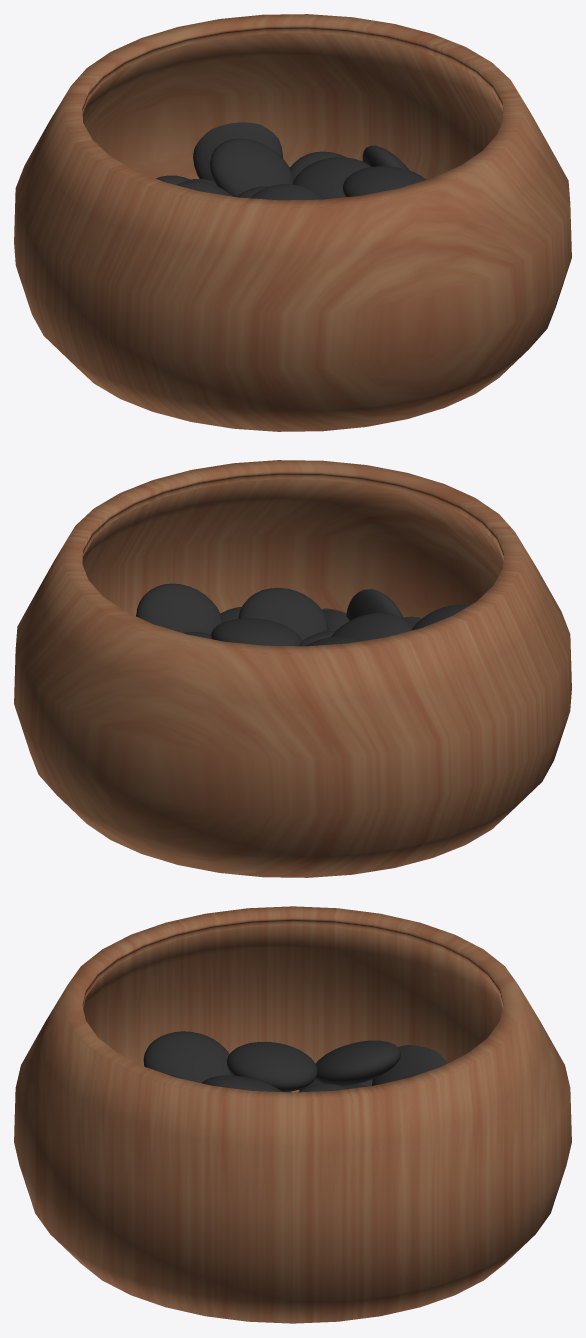
The model's file is BlackStones.fbx.
3 views of the same model, one above another, from view 1: azimuth 30°, elevation 25°; view 2: azimuth 150°, elevation 25°; view 3: azimuth 270°, elevation 25° (orthographic).
Visible parts, largest first — view 1: Container.001, White.001; view 2: Container.001, White.001; view 3: Container.001, White.001.
Boxes of the visible parts, bbox=[...] form: Container.001: bbox=[14, 14, 571, 431]; White.001: bbox=[156, 122, 426, 200]; Container.001: bbox=[14, 460, 571, 877]; White.001: bbox=[136, 583, 468, 646]; Container.001: bbox=[14, 906, 571, 1323]; White.001: bbox=[143, 1031, 447, 1092].
Size of the model in its own units: 1217 by 537 by 1217.
